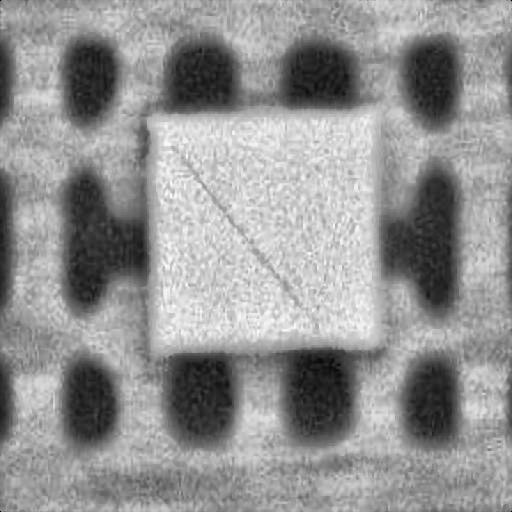DIE_CRACK: (254, 96, 470, 214)
